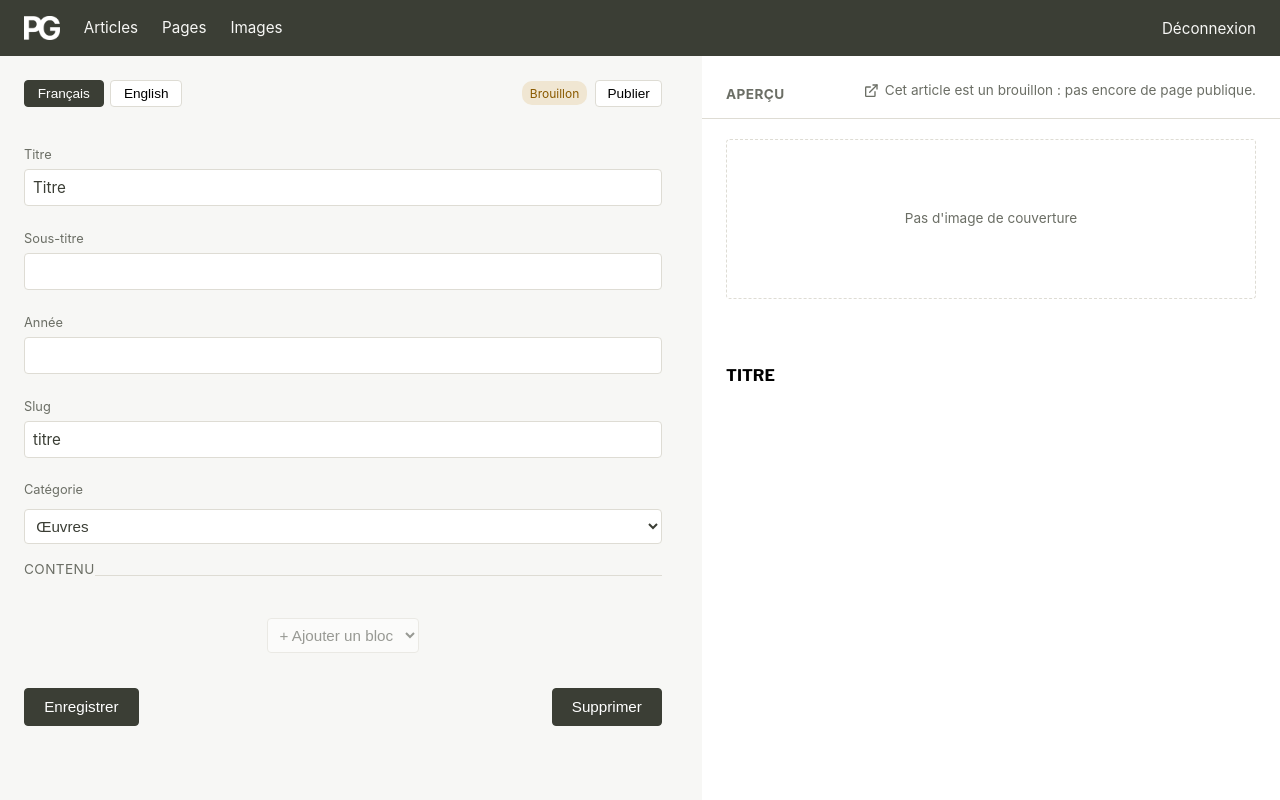
Test: Admin nav unsaved-changes guard › cancels on a backdrop click without navigating
Type " modifié" into the field showing "Titre" at (343, 188), box [24, 170, 662, 206]
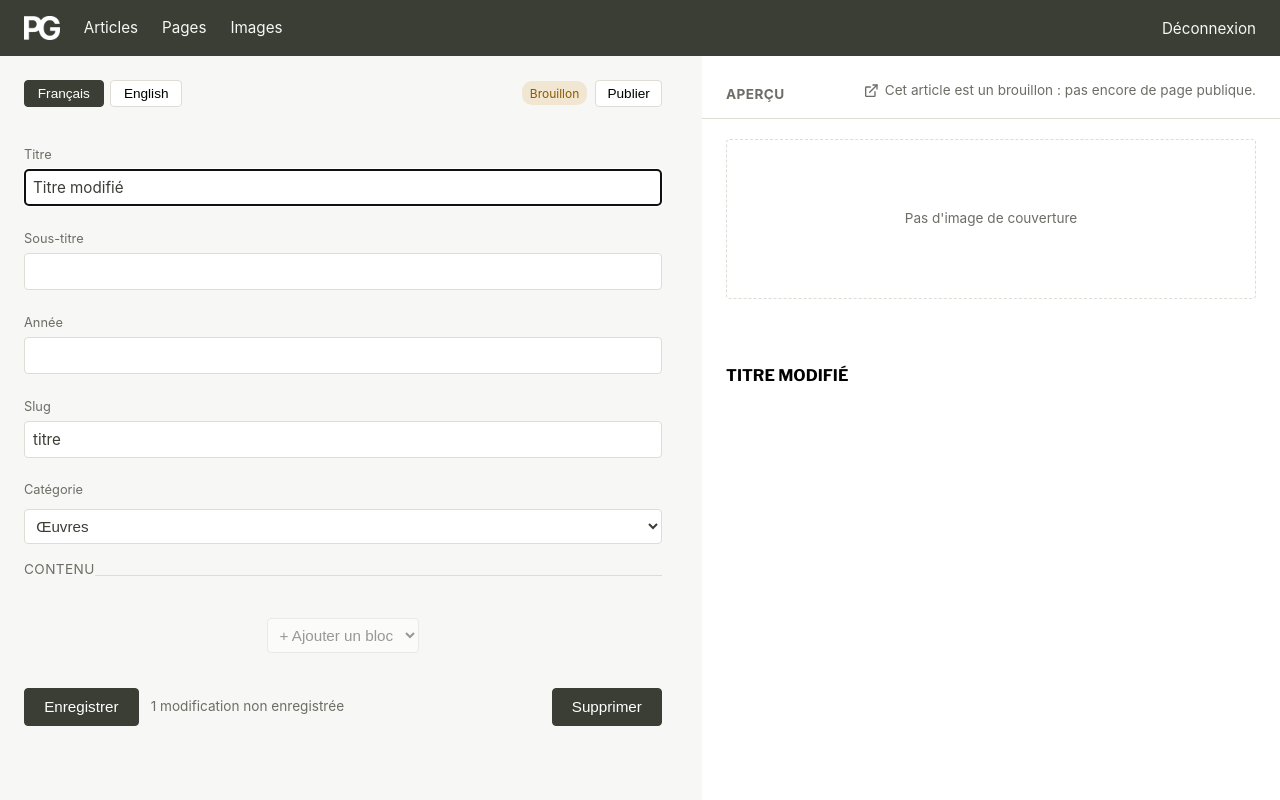
Click the link "Pages" at (184, 28), box [162, 16, 206, 40]
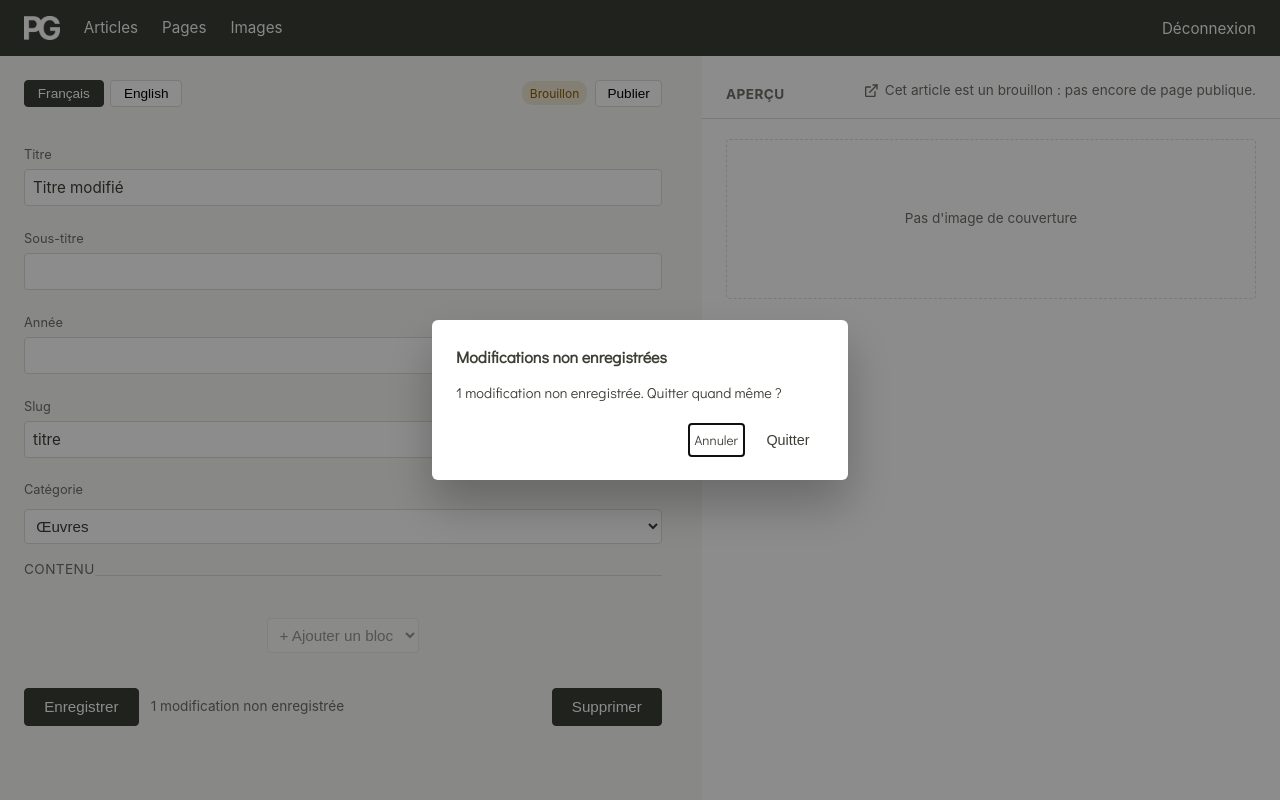
Result: the dialog is shown at [432, 320, 848, 480]
Click the element with class "modal-backdrop" at (77, 400), box [0, 0, 1279, 799]
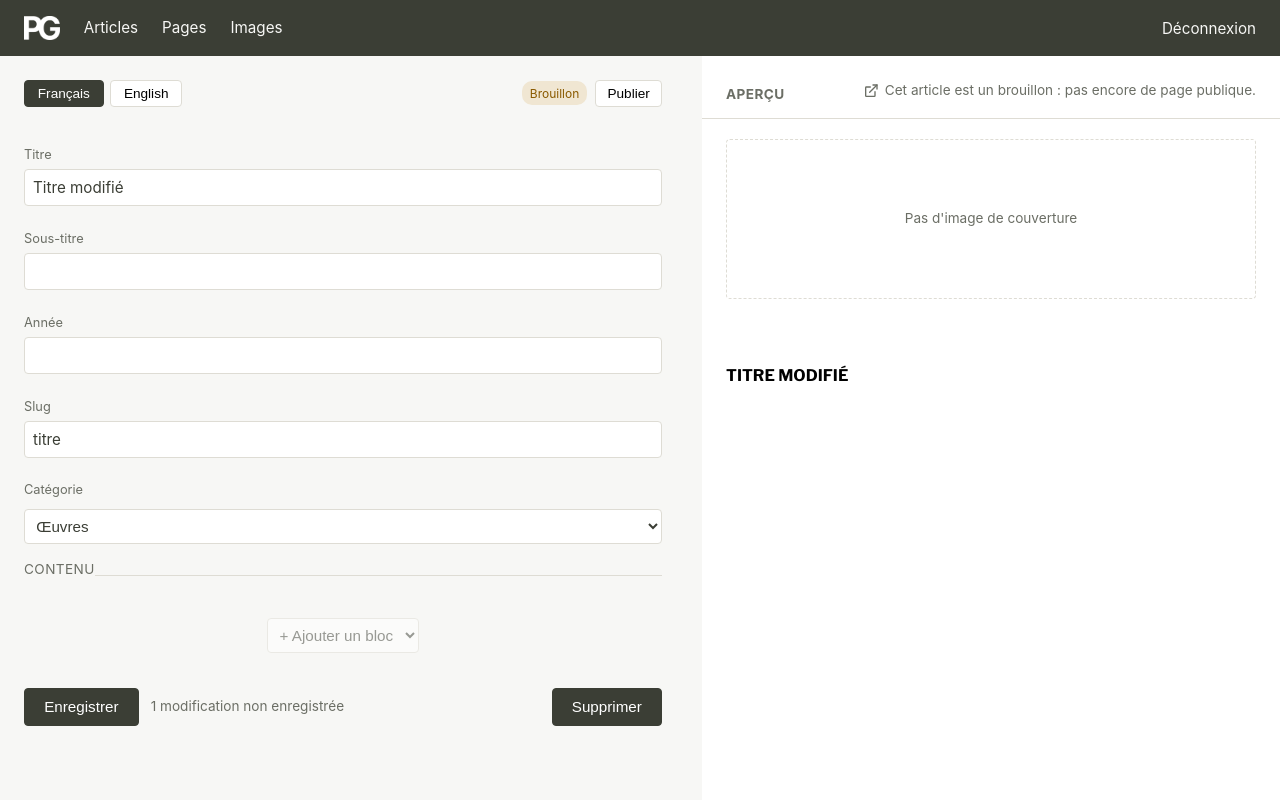
Expected: the field showing "Titre" is shown, [24, 170, 662, 206]
Result: the dialog is gone
